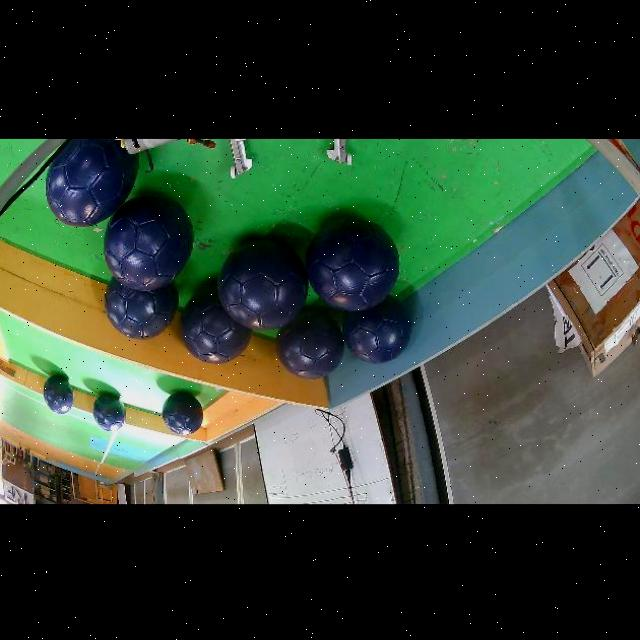B: (306, 218, 399, 312), (104, 195, 193, 292), (46, 139, 139, 227), (219, 241, 308, 331), (181, 288, 252, 364), (276, 311, 344, 381), (104, 278, 178, 340), (343, 298, 412, 364), (162, 392, 203, 437), (93, 395, 126, 433), (43, 376, 74, 415)
